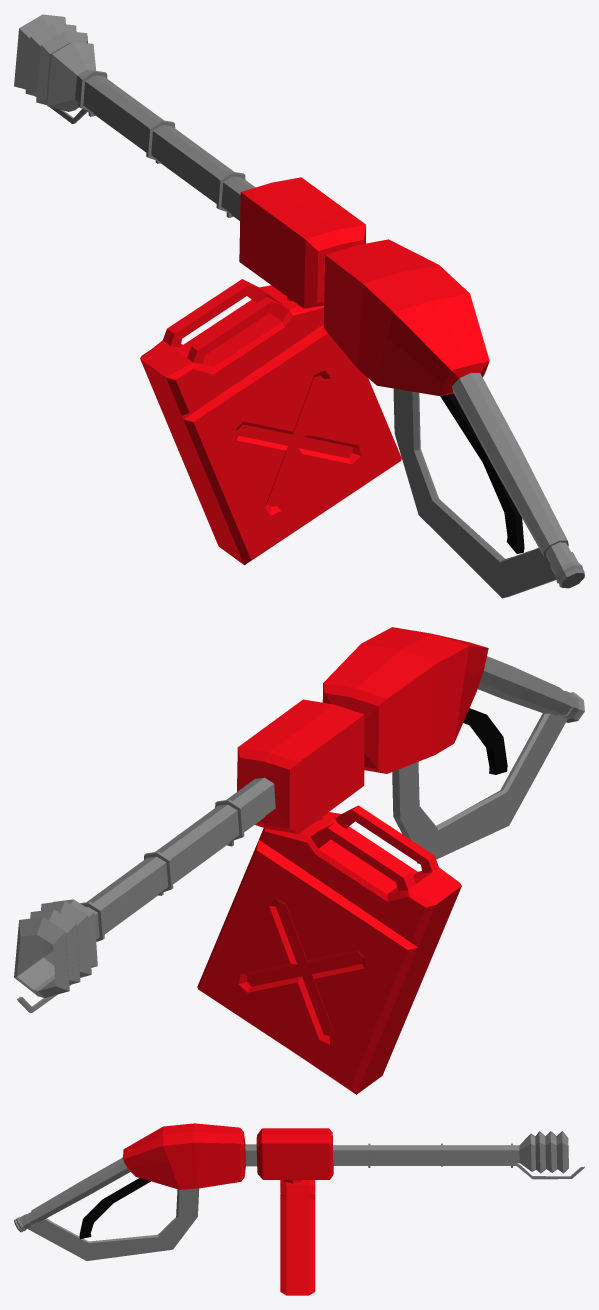
The model's file is Turbosquid.fbx.
3 views of the same model, one above another, from view 1: azimuth 30°, elevation 25°; view 2: azimuth 150°, elevation 25°; view 3: azimuth 270°, elevation 25° (orthographic). The views are drawn at different scales.
Visible parts, largest first — view 1: 평면, SM_Prop_GasCan_01; view 2: 평면, SM_Prop_GasCan_01; view 3: 평면, SM_Prop_GasCan_01.
Boxes of the visible parts, x1=… form: 평면: x1=14, y1=14, x2=584, y2=598; SM_Prop_GasCan_01: x1=140, y1=279, x2=401, y2=565; 평면: x1=14, y1=627, x2=584, y2=1012; SM_Prop_GasCan_01: x1=197, y1=805, x2=461, y2=1094; 평면: x1=14, y1=1123, x2=584, y2=1260; SM_Prop_GasCan_01: x1=280, y1=1180, x2=315, y2=1295.
Bounding box in the file's own units: 2491 × 3399 × 10016.
